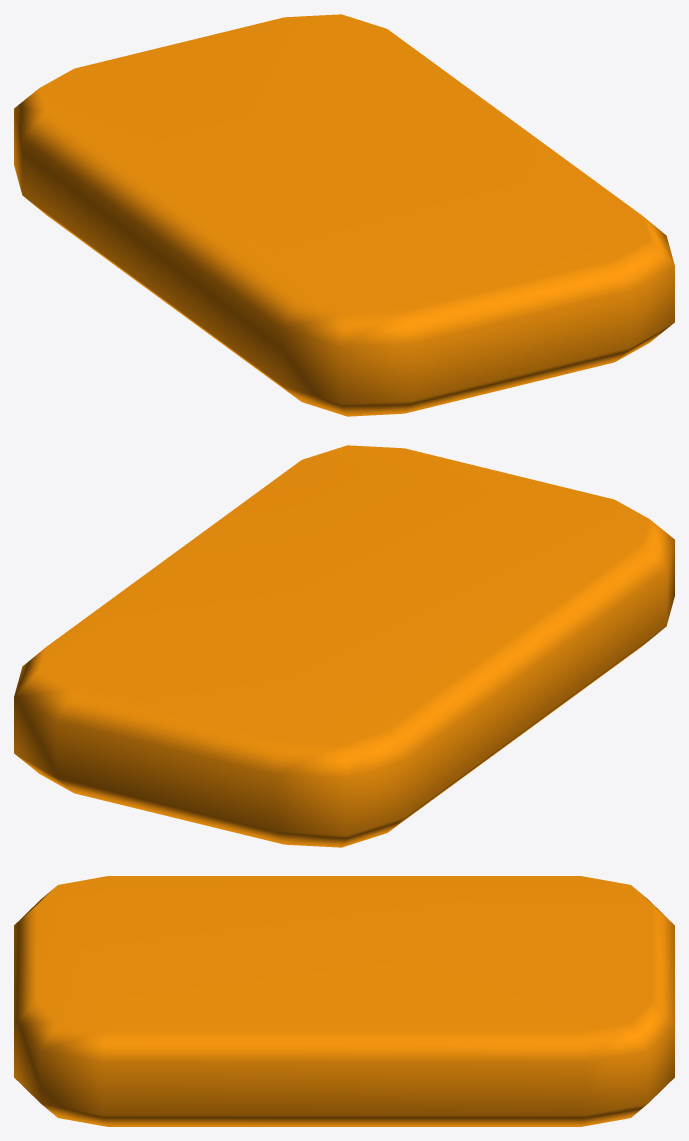
Rendered from casino-assets-glb-gold-ingot-02.glb.
The picture shows the model from 3 angles, top to bottom: view 1: azimuth 30°, elevation 25°; view 2: azimuth 150°, elevation 25°; view 3: azimuth 270°, elevation 25°; orthographic projection. The views are drawn at different scales.
Parts seen in each view (by area): view 1: Gold_Ingot_02; view 2: Gold_Ingot_02; view 3: Gold_Ingot_02.
Part boxes in pixels (x1,y1,x2,y2): Gold_Ingot_02: [14, 14, 674, 416]; Gold_Ingot_02: [14, 445, 674, 847]; Gold_Ingot_02: [14, 876, 674, 1126].
Bounding box in the file's own units: 0.118 × 0.0304 × 0.1889.
1 material, 1 textured.
